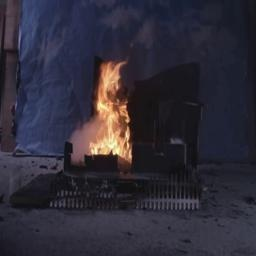fire: (81, 51, 137, 165)
